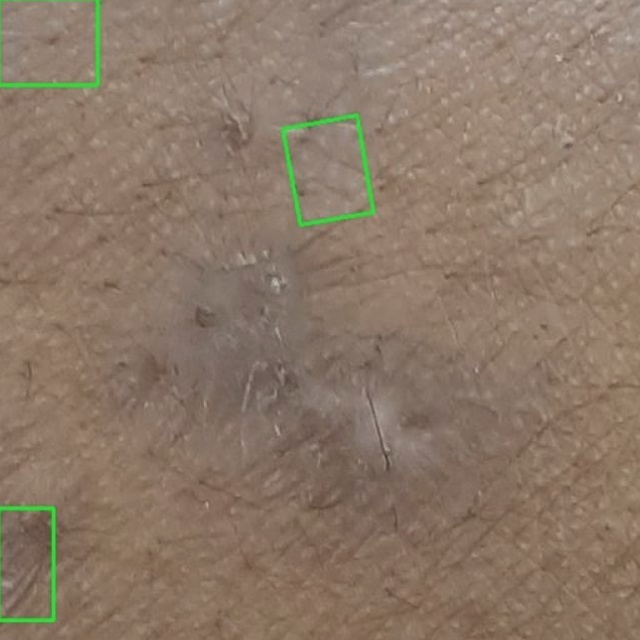Atopic Dermatitis: (283, 116, 374, 225), (0, 0, 97, 84), (0, 508, 53, 620)
